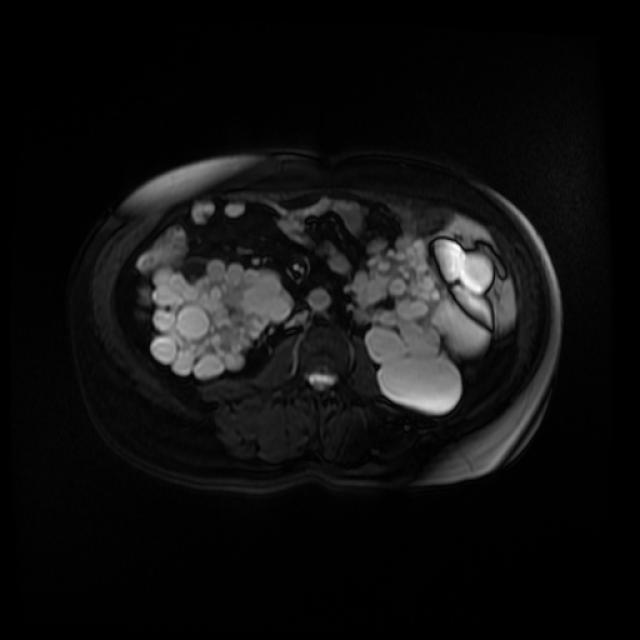sag: (148, 259, 294, 379)
sol: (345, 234, 497, 414)
